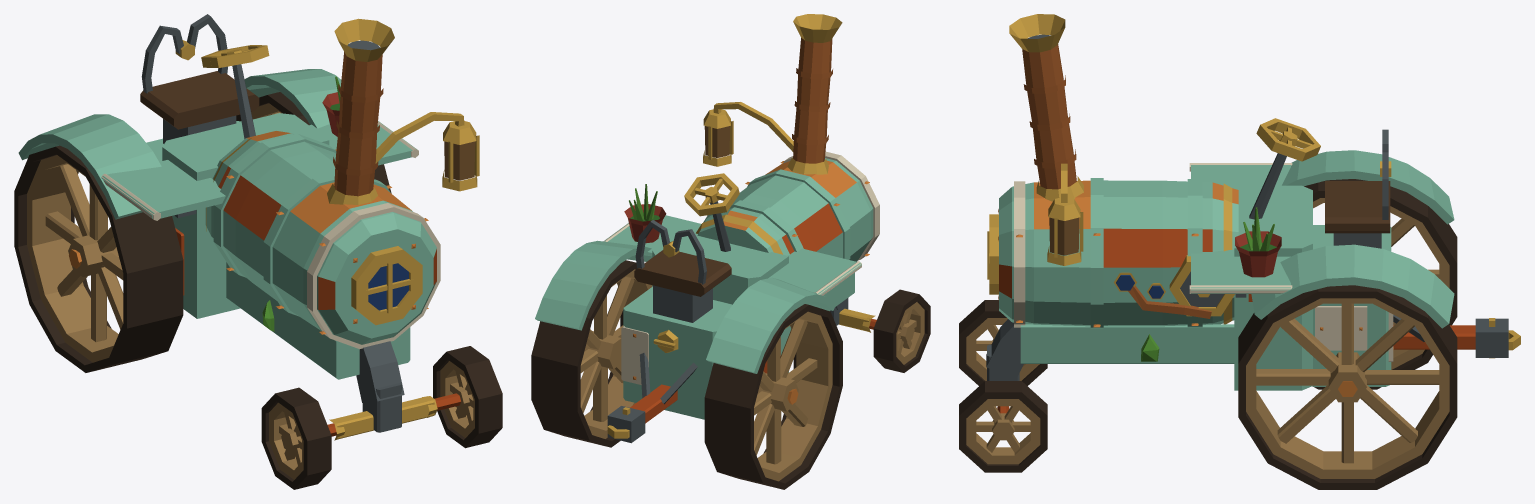
File: steam-mule-tractor-00badc.glb
3 renders of one model, left to right at view 1: azimuth 30°, elevation 25°; view 2: azimuth 150°, elevation 25°; view 3: azimuth 270°, elevation 25°, orthographic. The views are drawn at different scales.
Parts seen in each view (by area): view 1: mule-body, wheel-rl-mesh, wheel-fl-mesh, wheel-fr-mesh, column-mesh, wheel-rr-mesh, planter-mesh; view 2: mule-body, wheel-rl-mesh, wheel-rr-mesh, wheel-fl-mesh, column-mesh, planter-mesh; view 3: mule-body, wheel-rr-mesh, wheel-fr-mesh, wheel-rl-mesh, wheel-fl-mesh, column-mesh, planter-mesh.
Part boxes in pixels (left/top/right/bottom): mule-body: left=18, top=14, right=479, bottom=440; wheel-rl-mesh: left=14, top=145, right=183, bottom=372; wheel-fl-mesh: left=261, top=387, right=331, bottom=489; wheel-fr-mesh: left=433, top=346, right=502, bottom=448; column-mesh: left=201, top=45, right=269, bottom=138; wheel-rr-mesh: left=236, top=92, right=391, bottom=193; planter-mesh: left=322, top=76, right=340, bottom=136; mule-body: left=535, top=14, right=879, bottom=443; wheel-rl-mesh: left=704, top=304, right=842, bottom=489; wheel-rr-mesh: left=531, top=260, right=652, bottom=447; wheel-fl-mesh: left=873, top=289, right=930, bottom=372; column-mesh: left=684, top=173, right=739, bottom=251; planter-mesh: left=624, top=184, right=666, bottom=243; mule-body: left=986, top=14, right=1520, bottom=413; wheel-rr-mesh: left=1238, top=285, right=1457, bottom=489; wheel-fr-mesh: left=959, top=381, right=1047, bottom=472; wheel-rl-mesh: left=1304, top=179, right=1457, bottom=389; wheel-fl-mesh: left=959, top=300, right=1047, bottom=385; column-mesh: left=1249, top=118, right=1320, bottom=219; planter-mesh: left=1235, top=207, right=1281, bottom=277.
Size of the model in its own units: 1.38 by 2.04 by 2.58.
